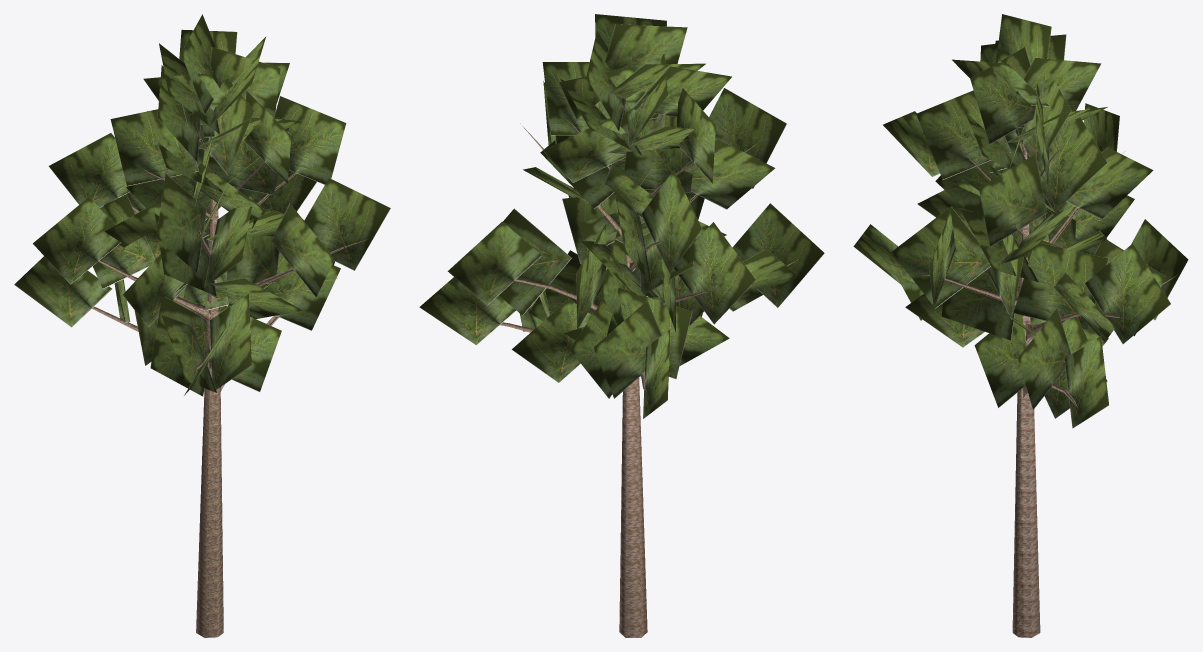
Rendered from pine_tree.fbx.
3 renders of one model, left to right at view 1: azimuth 30°, elevation 25°; view 2: azimuth 150°, elevation 25°; view 3: azimuth 270°, elevation 25°, orthographic.
Visible parts, largest first — view 1: Tree_1, Tree_0; view 2: Tree_1, Tree_0; view 3: Tree_1, Tree_0.
Part boxes in pixels (x1,y1,x2,y2): Tree_1: [14, 14, 390, 396]; Tree_0: [90, 122, 366, 637]; Tree_1: [419, 14, 824, 418]; Tree_0: [497, 100, 798, 637]; Tree_1: [853, 14, 1188, 428]; Tree_0: [916, 117, 1176, 637].
Bounding box in the file's own units: 556 × 1014 × 506.
